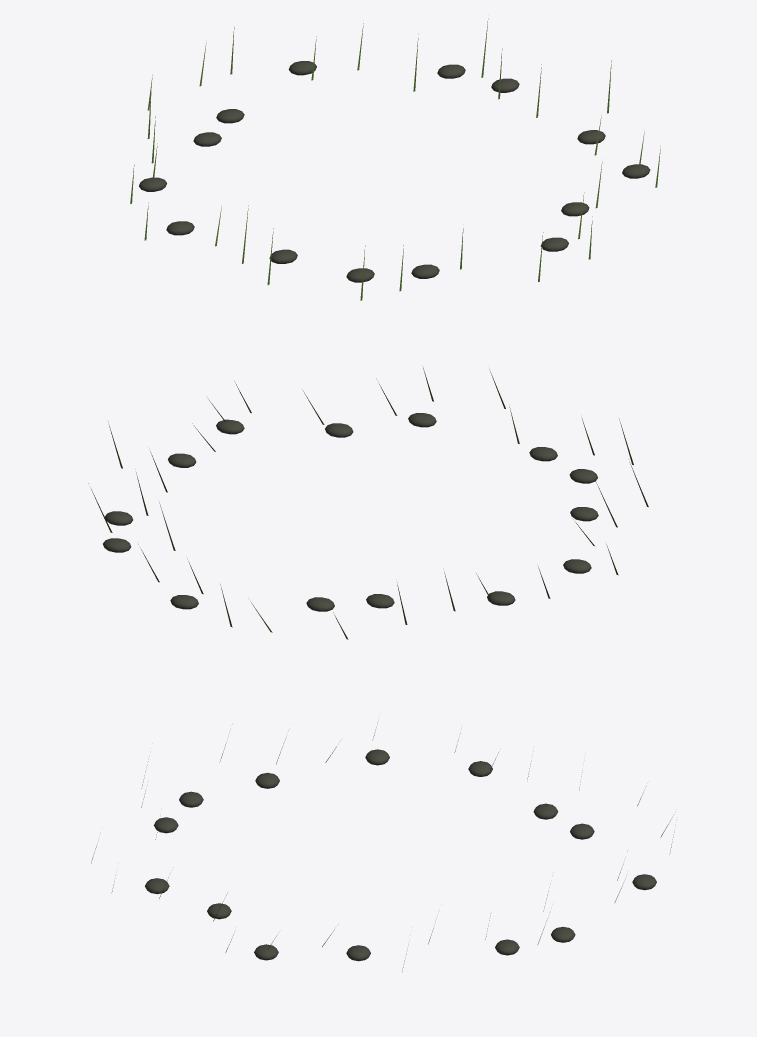
File: pond_edge_bank.glb
3 renders of one model, top to bottom at view 1: azimuth 30°, elevation 25°; view 2: azimuth 150°, elevation 25°; view 3: azimuth 270°, elevation 25°, orthographic.
Parts seen in each view (by area): view 1: Pond_Edge_Bank; view 2: Pond_Edge_Bank; view 3: Pond_Edge_Bank.
Part boxes in pixels (bbox=[...]): Pond_Edge_Bank: bbox=[130, 18, 660, 300]; Pond_Edge_Bank: bbox=[88, 367, 648, 639]; Pond_Edge_Bank: bbox=[91, 722, 674, 971].
Bounding box in the file's own units: 11.63 × 1.06 × 11.69.
3 materials, 3 textured.
